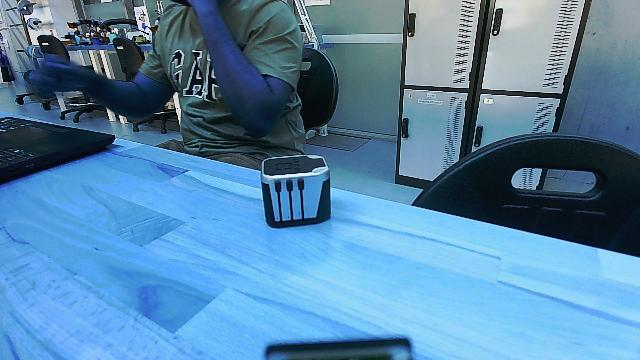adapter: (252, 150, 340, 234)
